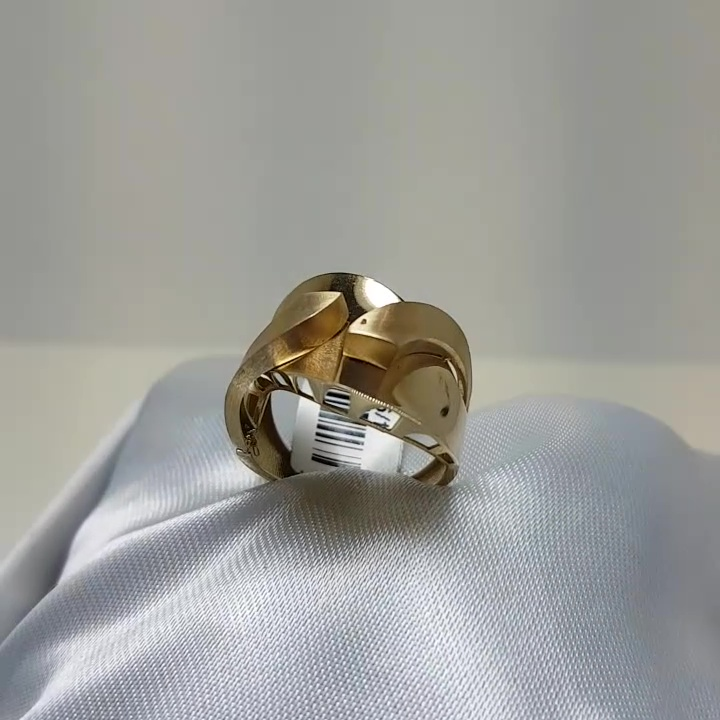Ring 4: (207, 263, 475, 504)
